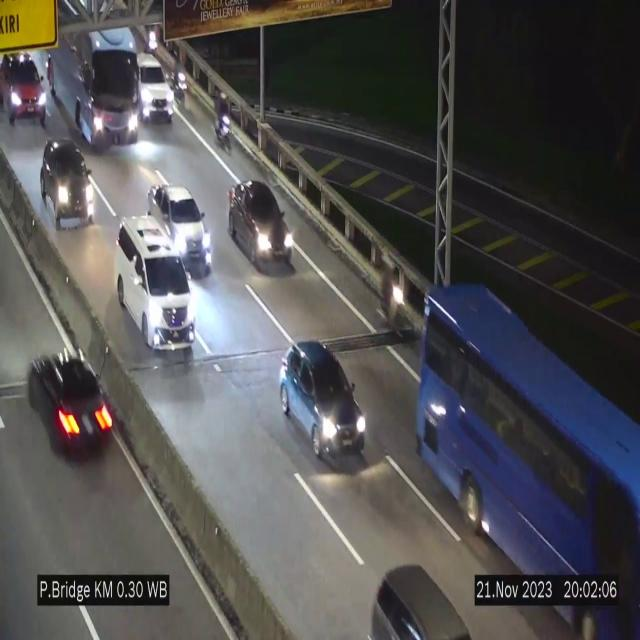Bus: (413, 271, 640, 640), (47, 28, 141, 148)
Car: (22, 331, 122, 461), (279, 341, 366, 468), (117, 217, 193, 361), (357, 549, 472, 640), (224, 177, 294, 272), (149, 184, 211, 278), (44, 143, 102, 234), (0, 52, 48, 134), (135, 52, 173, 122)
Motorcycle: (382, 263, 410, 348), (214, 93, 231, 151), (172, 54, 188, 109)
